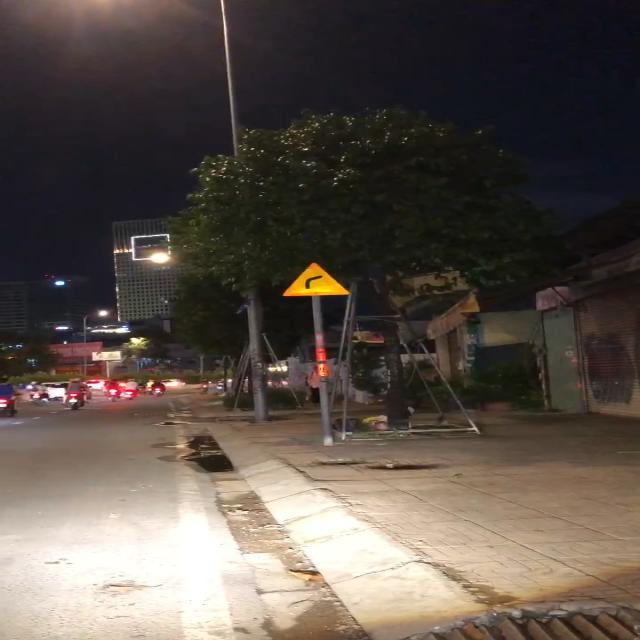Bien bao cho ngoat nguy hiem: (278, 256, 349, 301)
